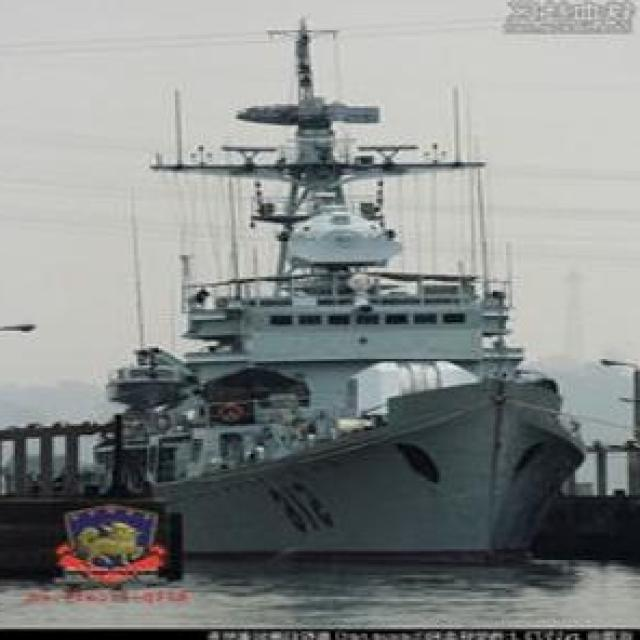navalvessels: (107, 16, 584, 559)
